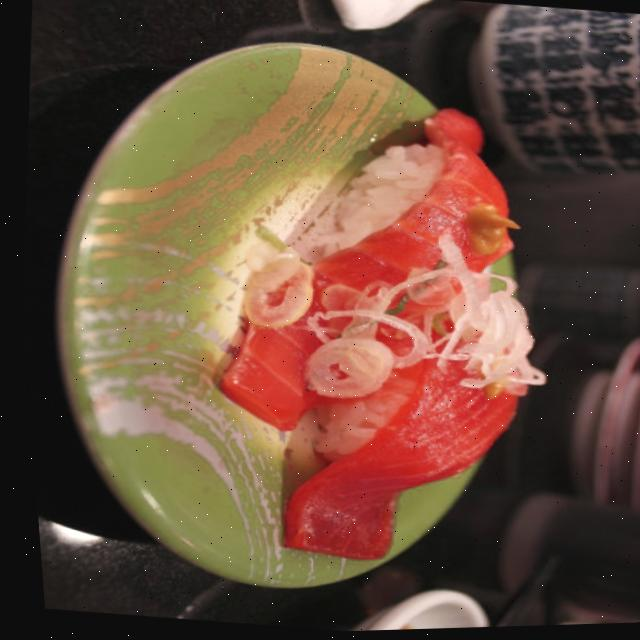寿司卷物: (50, 40, 576, 609)
